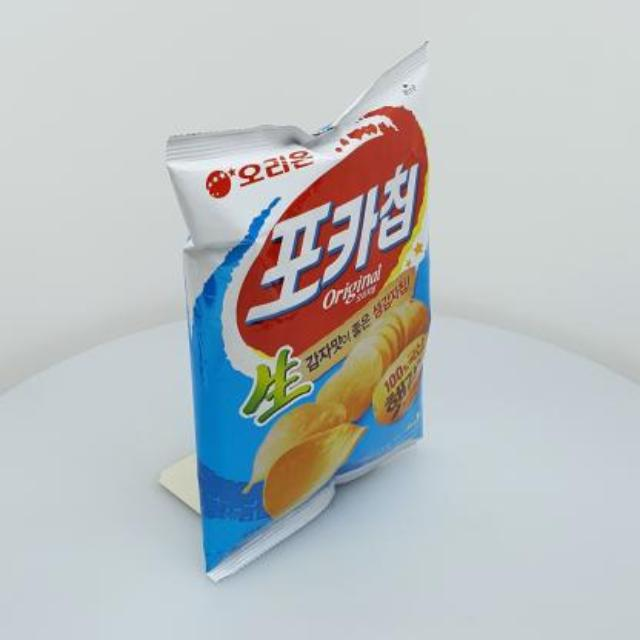snack_bag: (123, 11, 483, 612)
